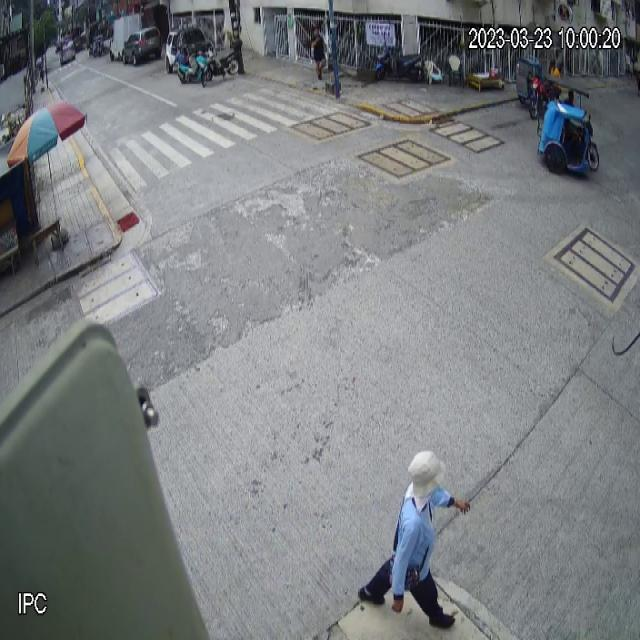Tricycle: (537, 74, 600, 175), (515, 56, 550, 120)
